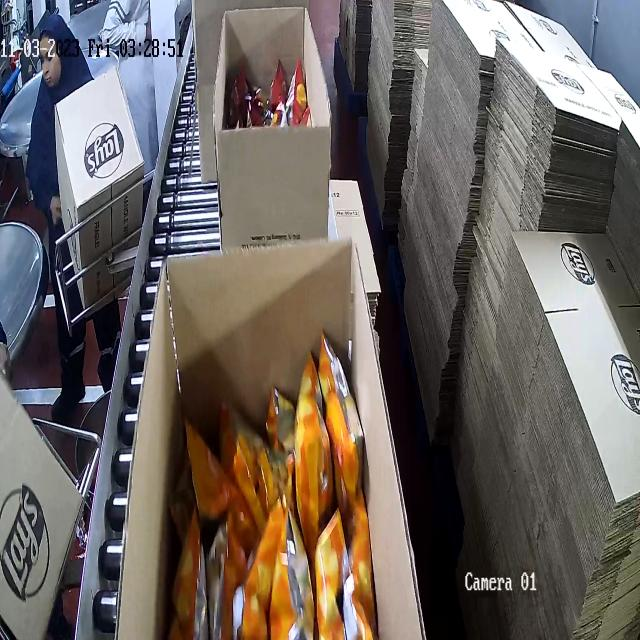FRENCH_CHEESE: (166, 330, 378, 638)
MASALA: (223, 54, 312, 127)
